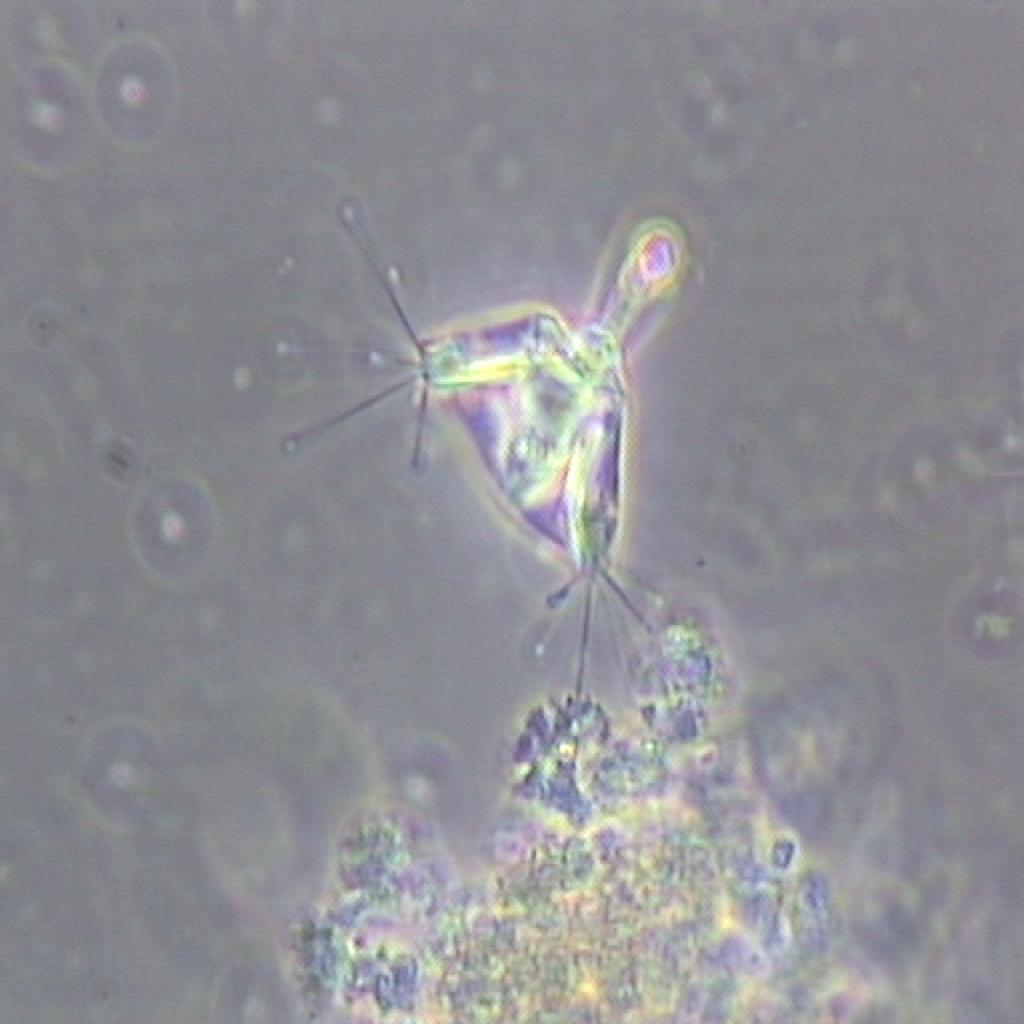Suctorida: (314, 197, 732, 699)
